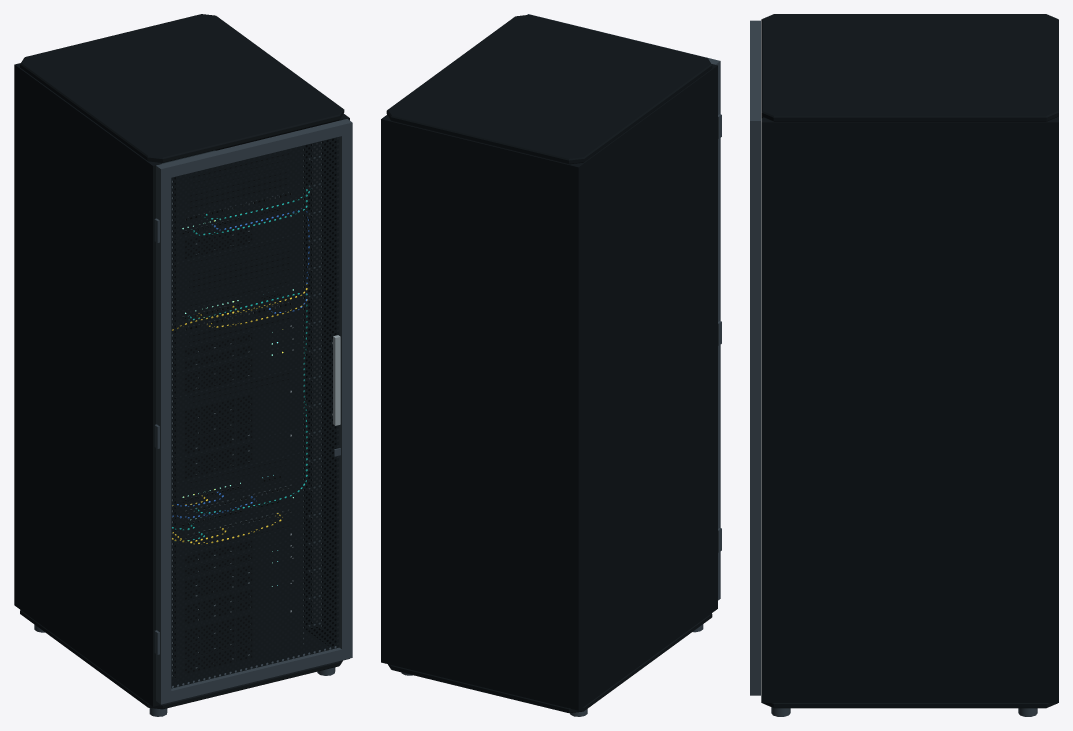
File: Server_Rack_42U.glb
The picture shows the model from 3 angles, left to right: view 1: azimuth 30°, elevation 25°; view 2: azimuth 150°, elevation 25°; view 3: azimuth 270°, elevation 25°; orthographic projection. The views are drawn at different scales.
Parts seen in each view (by area): view 1: Side_Panel_L, Door_Mesh_Panel, Top_Panel, Door_frame, Side_Panel_R, U31_blank_4U_face, Bottom_Panel, Side_Clips_rail, U39_blank_4U_face, U01_server_4U_face, Corner_Post_Rear_L, U19_server_4U_face (+17 smaller); view 2: Rear_Panel, Side_Panel_L, Top_Panel, Corner_Post_Rear_L, Side_Panel_R, Door_frame, Bottom_Panel, Corner_Post_Front_L, Corner_Post_Rear_R; view 3: Side_Panel_R, Top_Panel, Door_frame, Corner_Post_Front_R, Corner_Post_Rear_R, Bottom_Panel.
Boxes of the visible parts, x1,y1,x2,y2 form: Side_Panel_L: (14,64,156,706); Door_Mesh_Panel: (171,137,339,688); Top_Panel: (20,14,344,162); Door_frame: (154,119,352,704); Side_Panel_R: (215,114,349,659); U31_blank_4U_face: (173,233,302,311); Bottom_Panel: (20,610,342,709); Side_Clips_rail: (312,142,321,628); U39_blank_4U_face: (173,146,302,213); U01_server_4U_face: (173,600,302,677); Corner_Post_Rear_L: (16,63,19,607); U19_server_4U_face: (173,380,302,458); Rear_Panel: (385,119,575,709); Side_Panel_L: (575,65,717,710); Top_Panel: (386,14,712,164); Corner_Post_Rear_L: (571,163,582,709); Side_Panel_R: (381,115,388,662); Door_frame: (527,14,721,600); Bottom_Panel: (388,613,712,713); Corner_Post_Front_L: (711,64,715,611); Corner_Post_Rear_R: (384,117,389,663); Side_Panel_R: (761,120,1058,702); Top_Panel: (761,14,1058,121); Door_frame: (750,20,760,695); Corner_Post_Front_R: (761,117,771,702); Corner_Post_Rear_R: (1048,118,1058,702); Bottom_Panel: (762,703,1057,708).
Size of the model in its own units: 0.75 by 2.05 by 0.95.
Materials: 21 (1 with a texture image).
